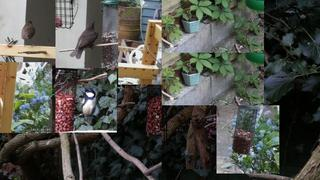great tit: (71, 88, 97, 120)
robin: (21, 20, 36, 48)
starling: (70, 20, 98, 59)
